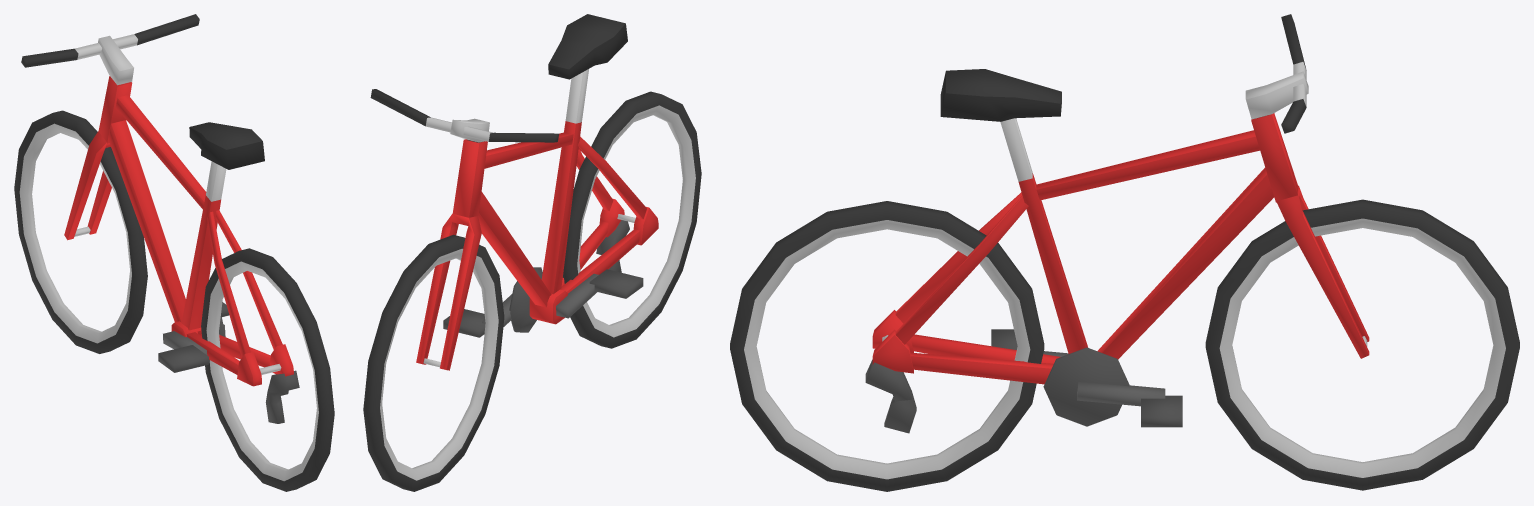
The model's file is bicycle1.glb.
3 views of the same model, side by side, from view 1: azimuth 30°, elevation 25°; view 2: azimuth 150°, elevation 25°; view 3: azimuth 270°, elevation 25° (orthographic). The views are drawn at different scales.
Parts seen in each view (by area): view 1: Object_2; view 2: Object_2; view 3: Object_2.
Boxes of the visible parts, x1,y1,x2,y2 form: Object_2: [14, 14, 334, 491]; Object_2: [363, 14, 701, 491]; Object_2: [730, 14, 1519, 491].
Size of the model in its own units: 0.554 by 1.01 by 1.72.
1 material, 1 textured.
